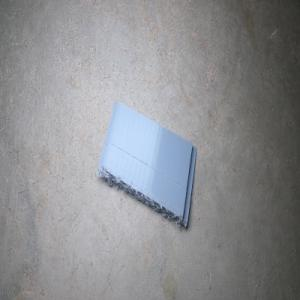PlasticPart: (95, 100, 197, 227)
